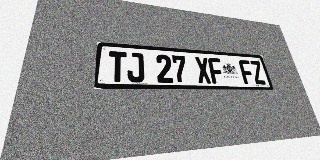2: (156, 54, 173, 83)
7: (171, 55, 189, 83)
F: (207, 58, 225, 84), (238, 60, 256, 84)
J: (127, 52, 145, 82)
T: (108, 51, 127, 82)
X: (194, 57, 212, 84)
Z: (249, 60, 267, 84)
